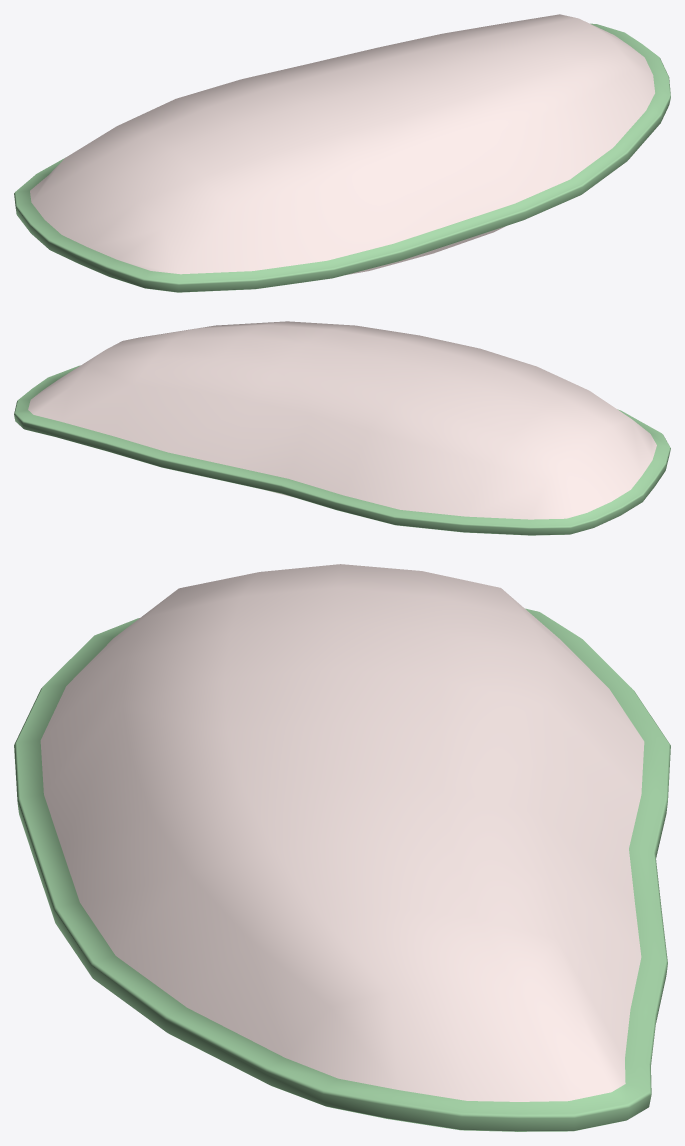
File: Oysters_Meat.fbx
The picture shows the model from 3 angles, top to bottom: view 1: azimuth 30°, elevation 25°; view 2: azimuth 150°, elevation 25°; view 3: azimuth 270°, elevation 25°; orthographic projection. The views are drawn at different scales.
Parts seen in each view (by area): view 1: Oysters_Meat; view 2: Oysters_Meat; view 3: Oysters_Meat.
Part boxes in pixels (left/top/right/bottom): Oysters_Meat: left=14, top=14, right=670, bottom=292; Oysters_Meat: left=14, top=321, right=670, bottom=535; Oysters_Meat: left=14, top=564, right=670, bottom=1131.
Size of the model in its own units: 6.88 by 1.45 by 3.64.
